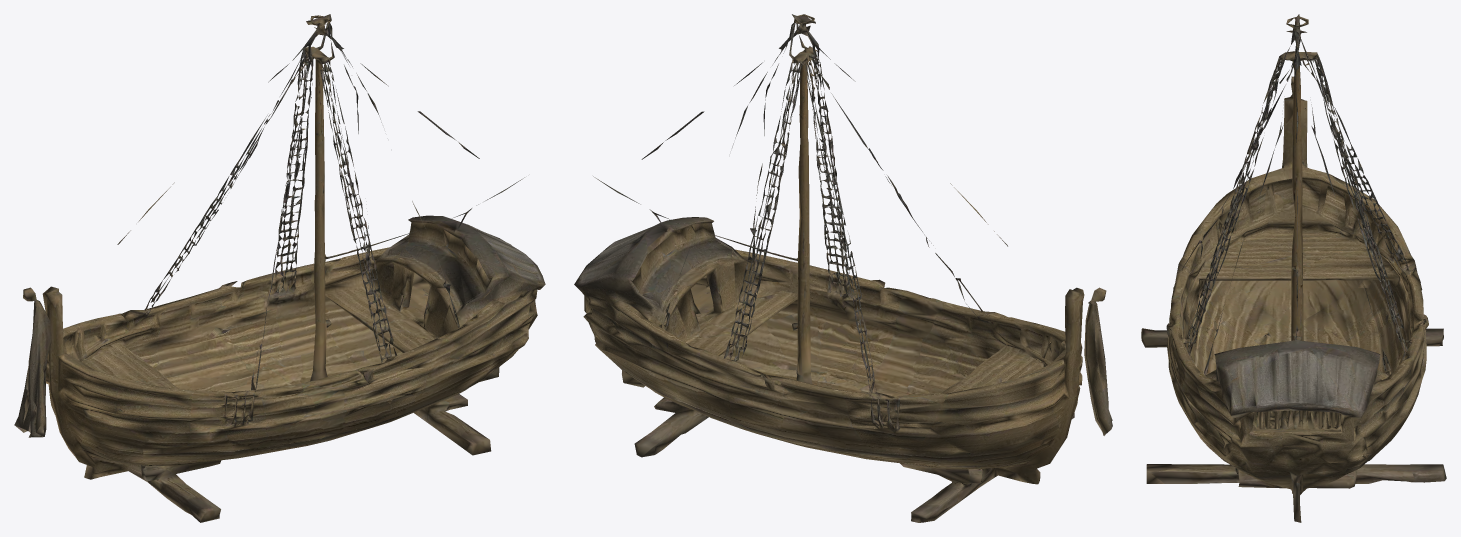
Rendered from werft.glb.
3 views of the same model, side by side, from view 1: azimuth 30°, elevation 25°; view 2: azimuth 150°, elevation 25°; view 3: azimuth 270°, elevation 25° (orthographic). The views are drawn at different scales.
Size of the model in its own units: 1.83 by 1.39 by 0.9148.
Materials: 1 (1 with a texture image).
